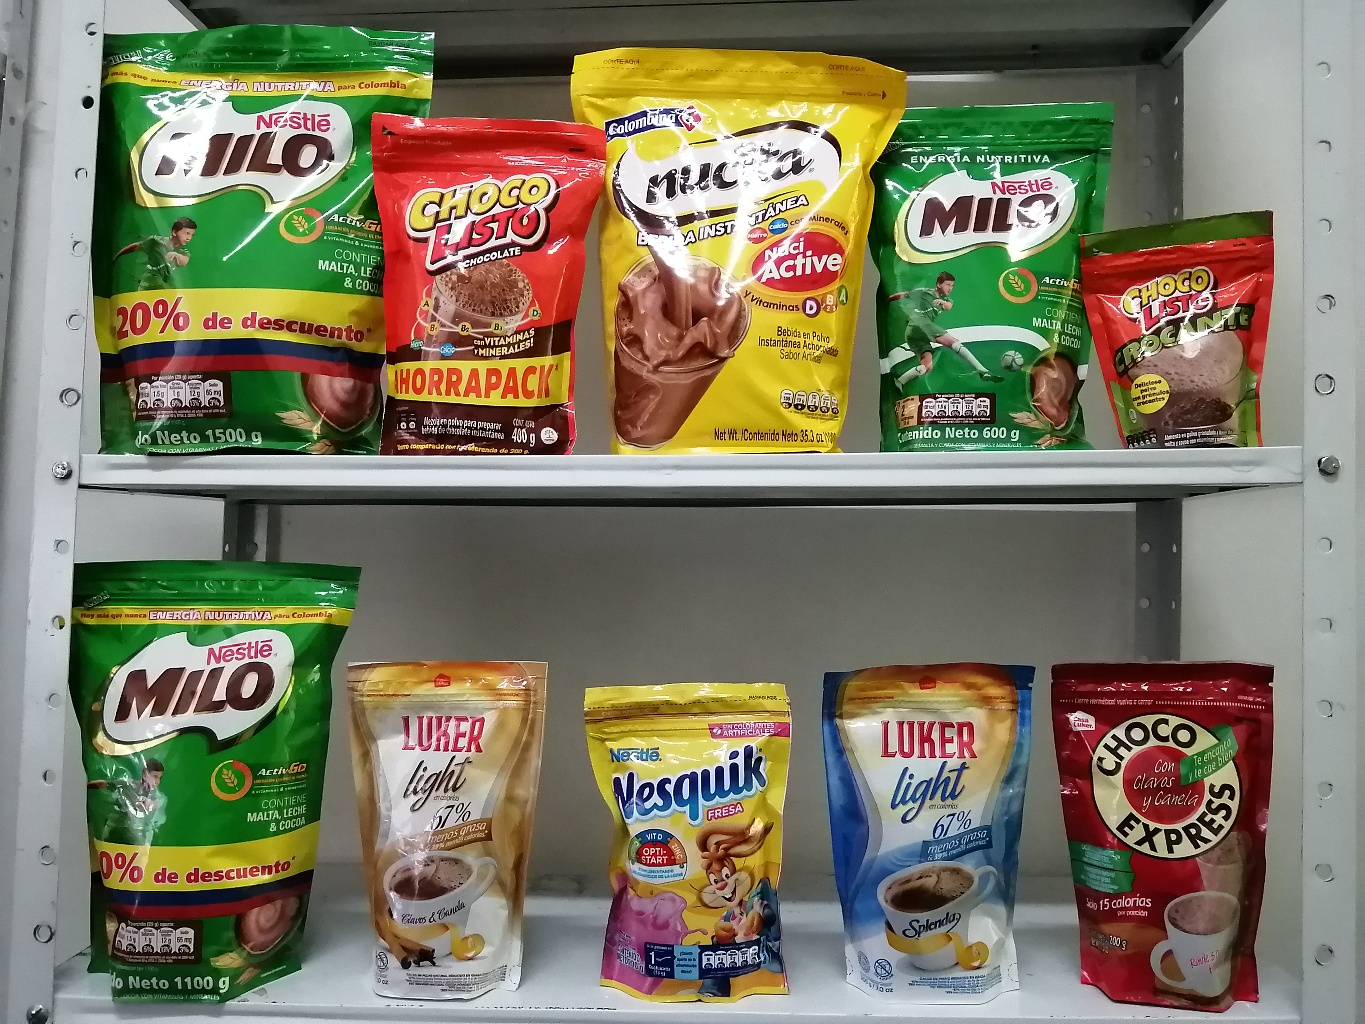COL0170102DYP10000: (1082, 214, 1300, 443)
COL0170103DYP40000: (364, 80, 598, 452)
COL0170305DYP20000: (582, 671, 806, 1007)
